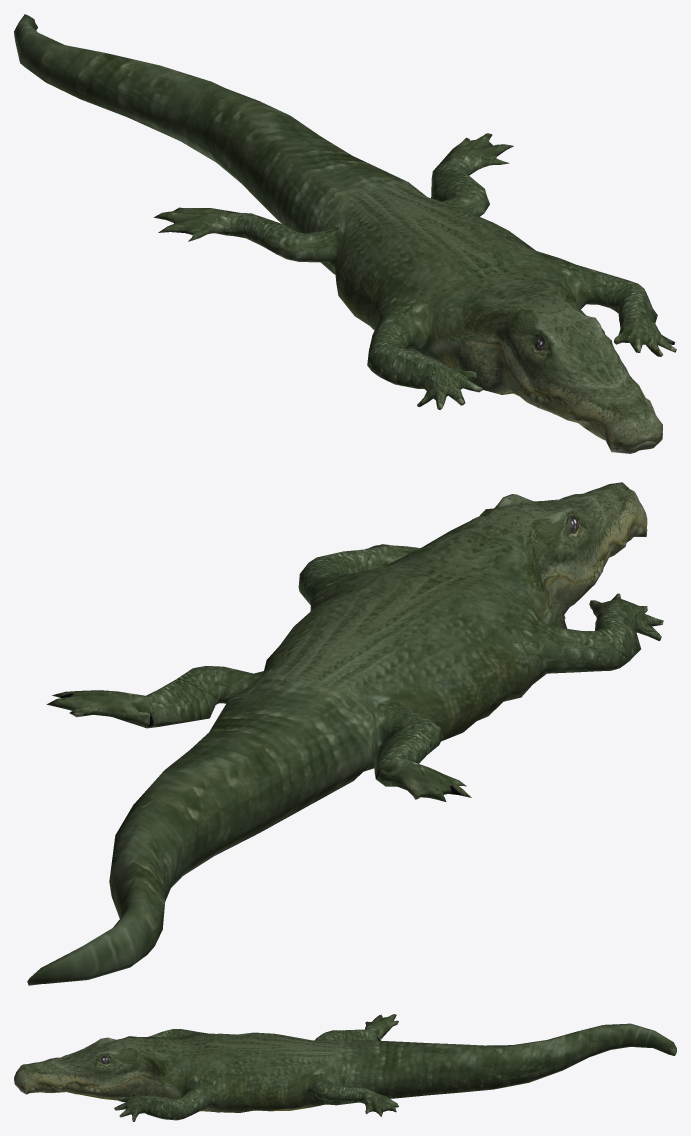
File: Alligator.glb
3 views of the same model, one above another, from view 1: azimuth 30°, elevation 25°; view 2: azimuth 150°, elevation 25°; view 3: azimuth 270°, elevation 25° (orthographic). The views are drawn at different scales.
Parts seen in each view (by area): view 1: Jacare; view 2: Jacare; view 3: Jacare.
Boxes of the visible parts, x1,y1,x2,y2 form: Jacare: [14, 14, 676, 453]; Jacare: [27, 482, 663, 985]; Jacare: [14, 1014, 676, 1121].
Size of the model in its own units: 95.67 by 27.5 by 261.
2 materials, 1 textured.
